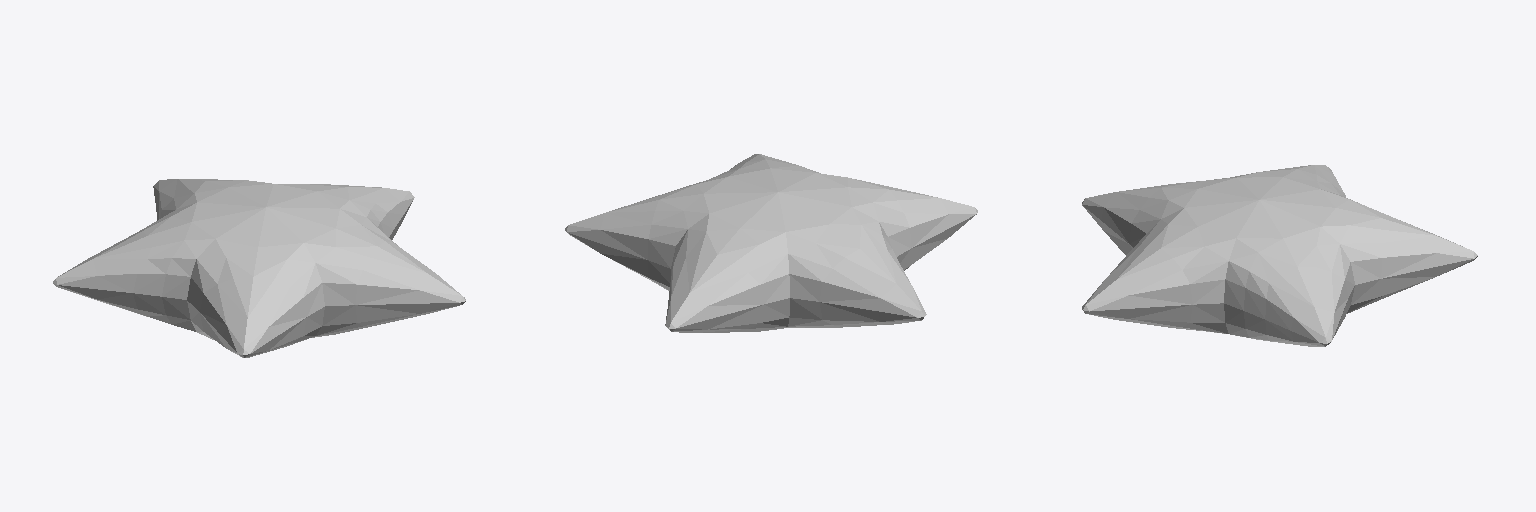
The model's file is star.obj.
The picture shows the model from 3 angles: view 1: azimuth 30°, elevation 25°; view 2: azimuth 150°, elevation 25°; view 3: azimuth 270°, elevation 25°; orthographic projection.
Parts seen in each view (by area): view 1: ItemStar__mt_ItemStar; view 2: ItemStar__mt_ItemStar; view 3: ItemStar__mt_ItemStar.
Part boxes in pixels (bbox=[...]): ItemStar__mt_ItemStar: bbox=[53, 179, 465, 357]; ItemStar__mt_ItemStar: bbox=[565, 154, 977, 332]; ItemStar__mt_ItemStar: bbox=[1082, 165, 1477, 346].
Bounding box in the file's own units: 6.23 × 1.86 × 5.94.